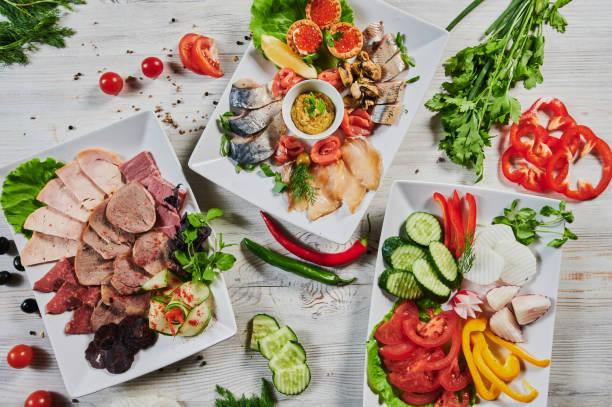Braised Crucian Carp: (3, 111, 240, 398), (190, 1, 442, 245), (360, 178, 564, 405)
